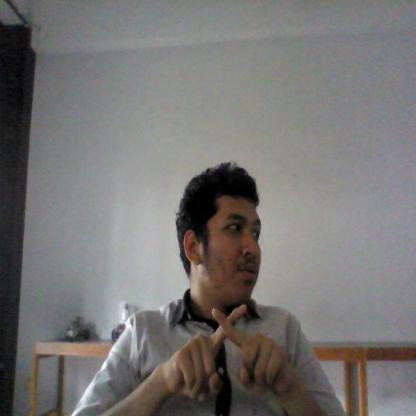X: (166, 303, 292, 403)
